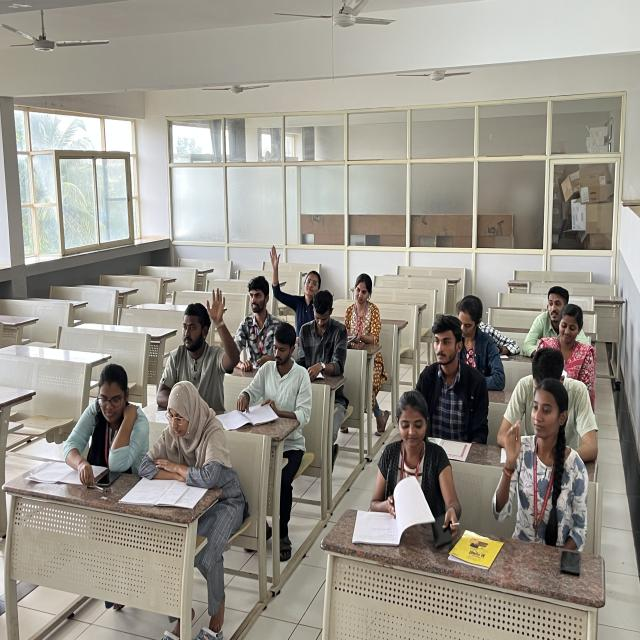Hand Rising: (487, 376, 591, 559), (160, 293, 239, 400), (268, 243, 323, 324)
Reading: (135, 379, 238, 529), (358, 398, 457, 542), (298, 288, 348, 384)
Writing: (46, 358, 150, 496)
